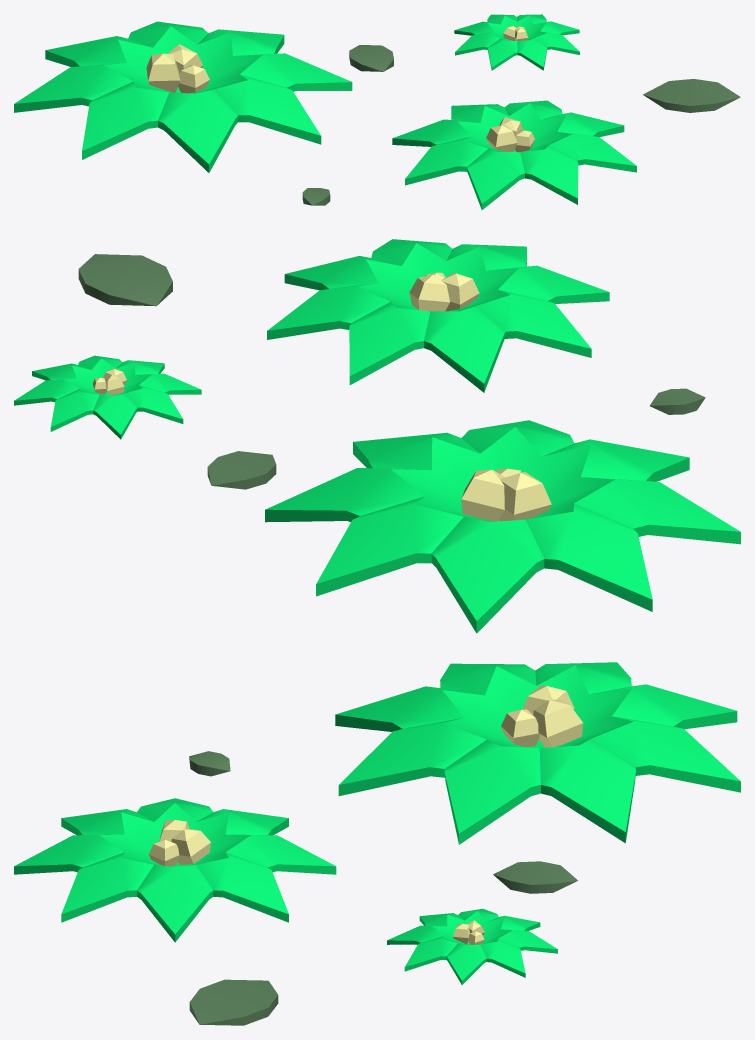
File: FBX_Flower_Flat.fbx
The picture shows the model from 3 angles, top to bottom: view 1: azimuth 30°, elevation 25°; view 2: azimuth 150°, elevation 25°; view 3: azimuth 270°, elevation 25°; orthographic projection. The views are drawn at different scales.
Visible parts, largest first — view 1: polySurface19; view 2: polySurface19; view 3: polySurface19.
Part boxes in pixels (<box>): polySurface19: <box>14,14,740,209</box>; polySurface19: <box>14,239,740,633</box>; polySurface19: <box>14,662,740,1025</box>.
Bounding box in the file's own units: 3.5 × 0.3253 × 3.08.
1 material, 1 textured.
